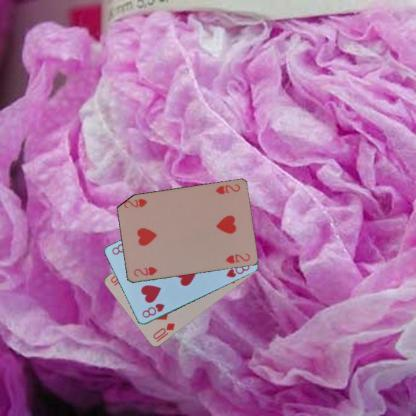10d: (150, 321, 176, 344)
2h: (212, 181, 242, 196), (130, 264, 158, 278)
8h: (139, 301, 166, 320)
